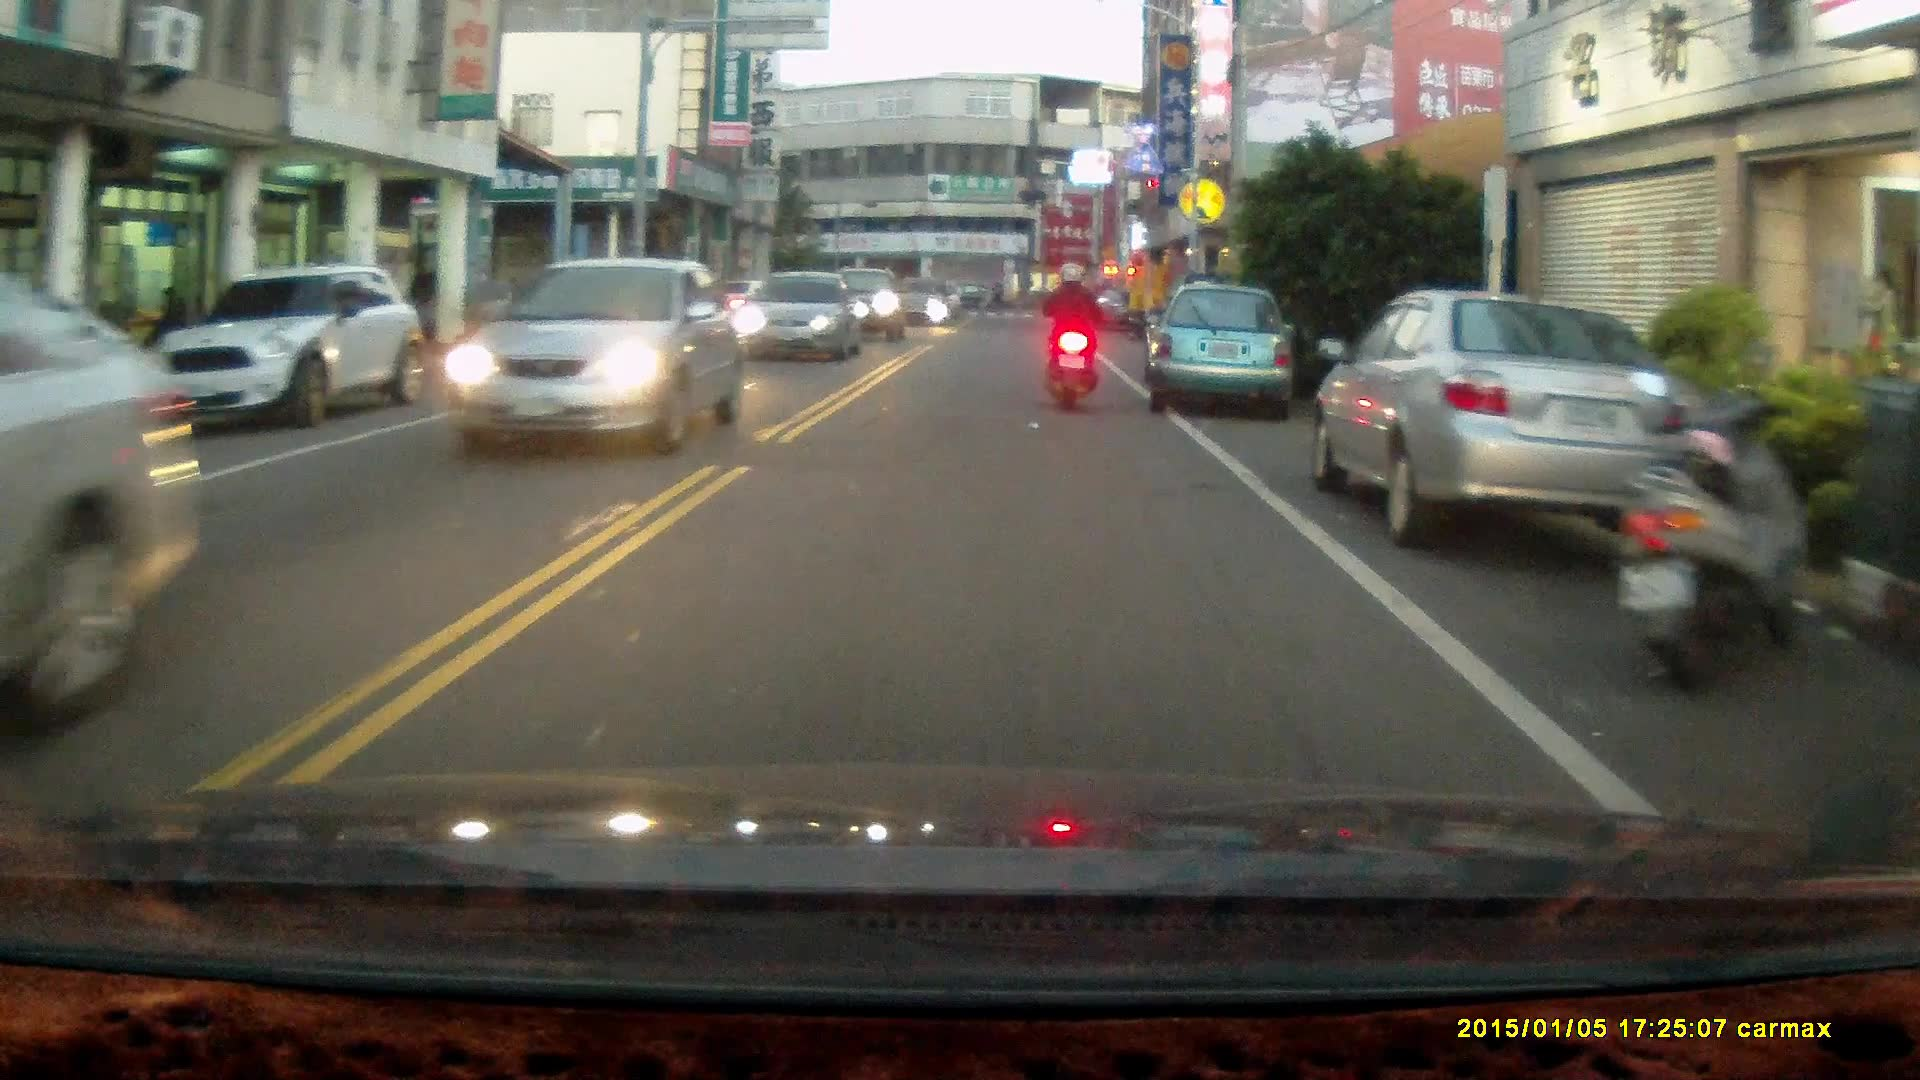pedestrian: (153, 284, 190, 356)
rider: (1037, 258, 1108, 415)
vehicle: (1309, 293, 1747, 551), (2, 266, 208, 701), (439, 262, 753, 454), (134, 263, 431, 439), (1147, 280, 1300, 424), (730, 270, 860, 366)
